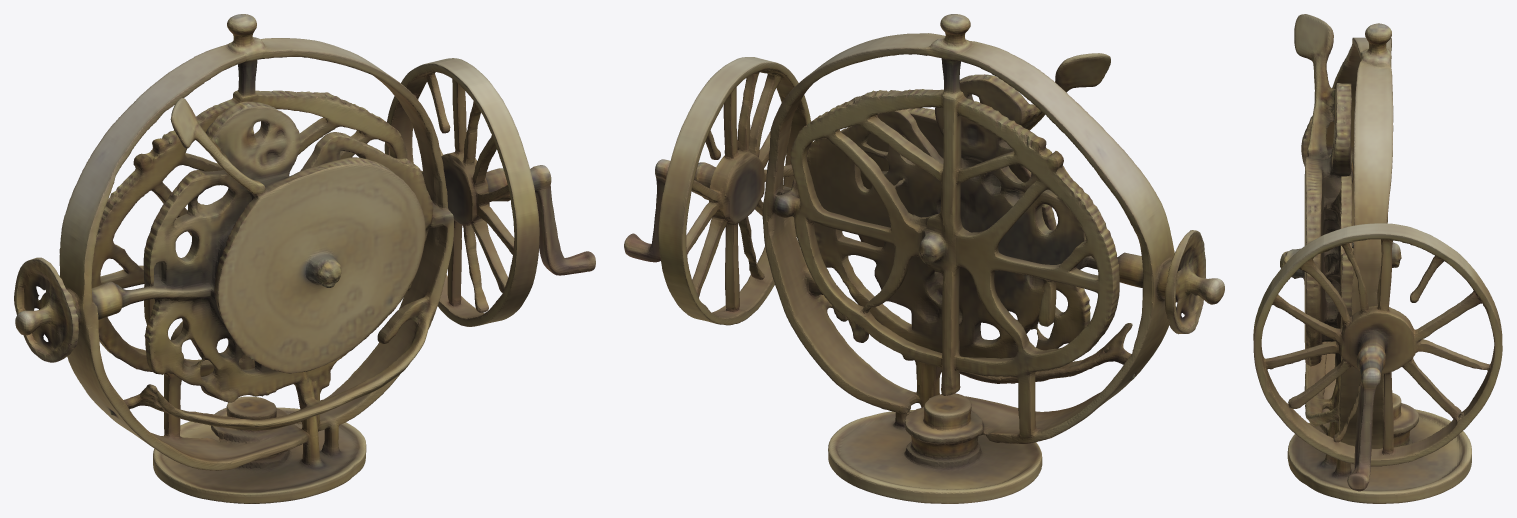
The picture shows the model from 3 angles, left to right: view 1: azimuth 30°, elevation 25°; view 2: azimuth 150°, elevation 25°; view 3: azimuth 270°, elevation 25°; orthographic projection. The views are drawn at different scales.
Parts seen in each view (by area): view 1: world; view 2: world; view 3: world.
Boxes of the visible parts, x1,y1,x2,y2 form: world: (14, 14, 595, 503); world: (624, 14, 1224, 503); world: (1253, 14, 1502, 503).
Size of the model in its own units: 1 by 0.737 by 0.3914.
